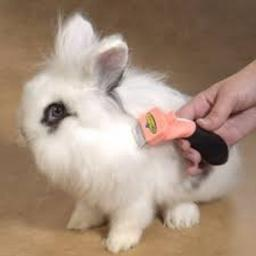rabbit: (20, 13, 239, 252)
